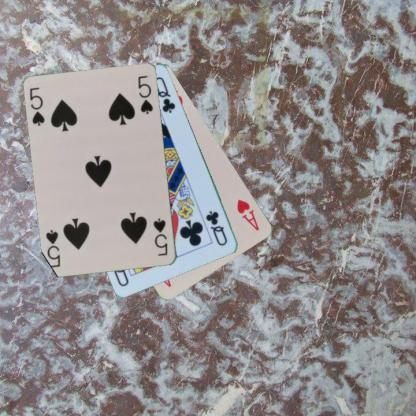5s: (27, 84, 46, 127), (151, 216, 169, 258)
Ah: (234, 196, 261, 232)
Qc: (203, 208, 229, 247)
